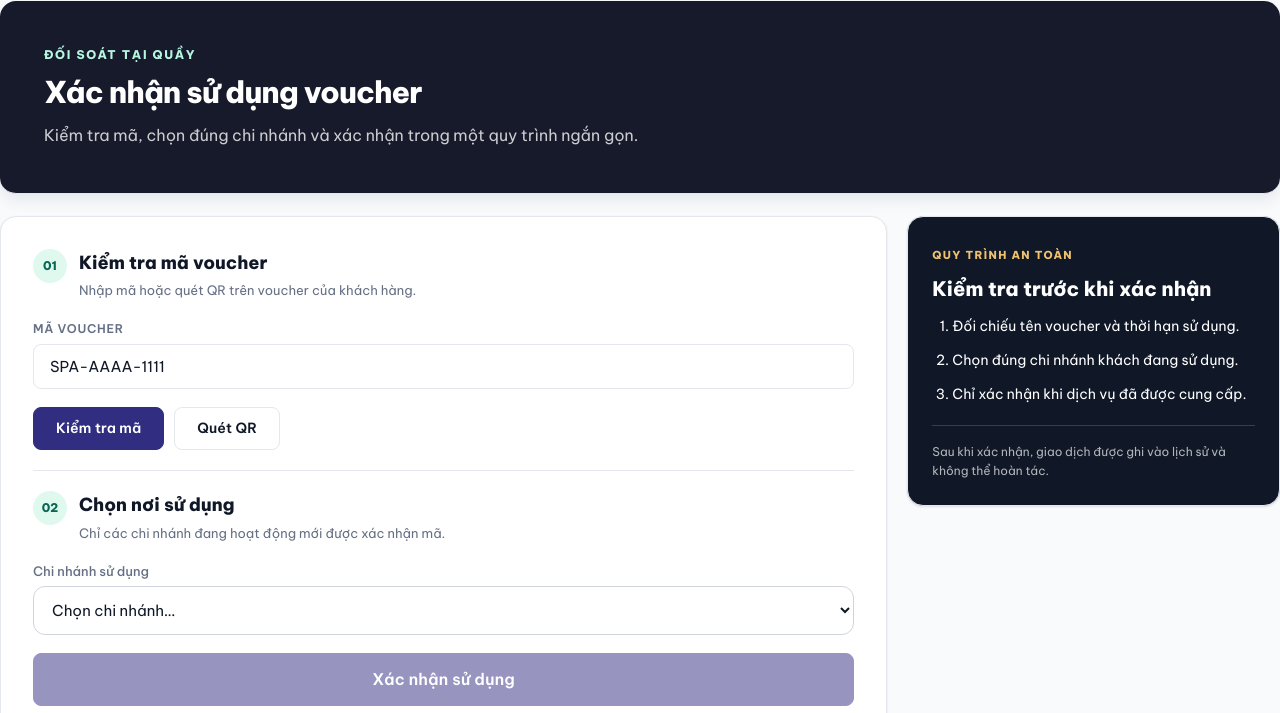
Test: RedeemCodePage › redeems a code at the selected branch and shows the result (Req 19.1)
Expected: the dropdown with test id "branch-select" is shown, [33,586,854,635]
Click the button with test id "validate-code-btn" at (99, 428), box [33,407,164,450]
(page scrolled)
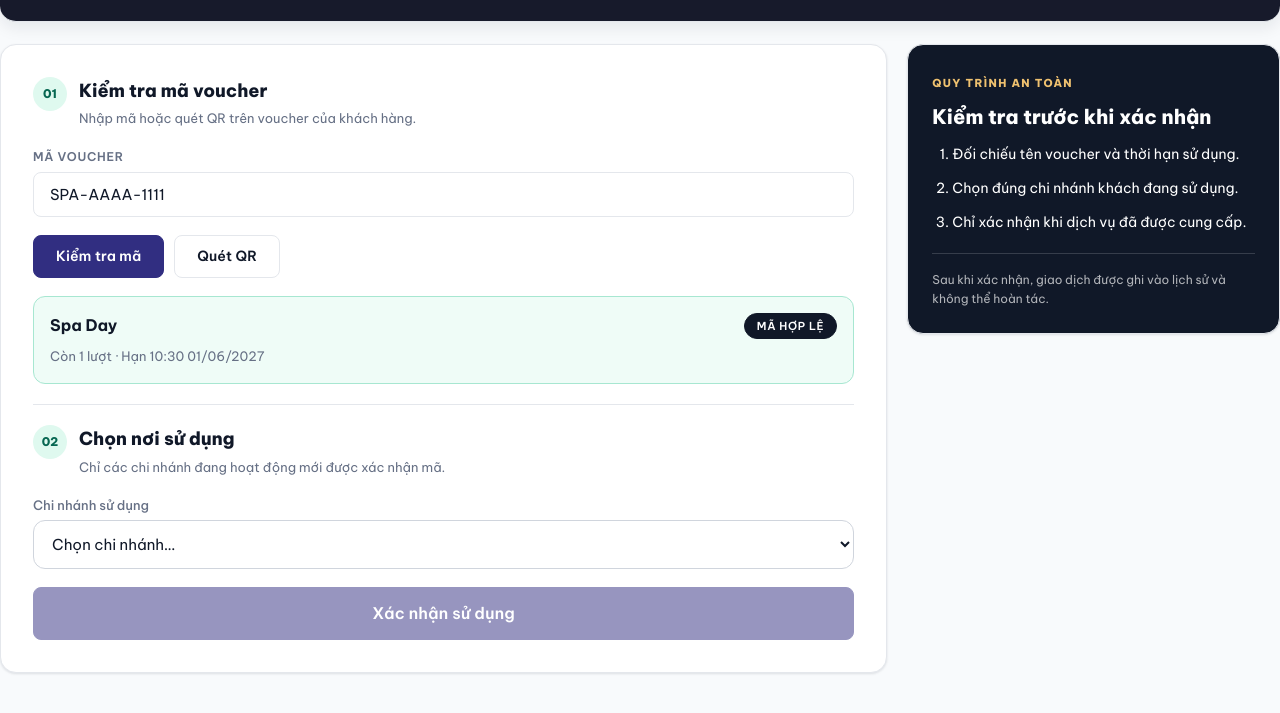
Result: the text "Mã hợp lệ" is shown at [744,313,837,339]
Select "Downtown Spa — Hà Nội" in the dropdown with test id "branch-select" at (444, 544), box [33,520,854,569]
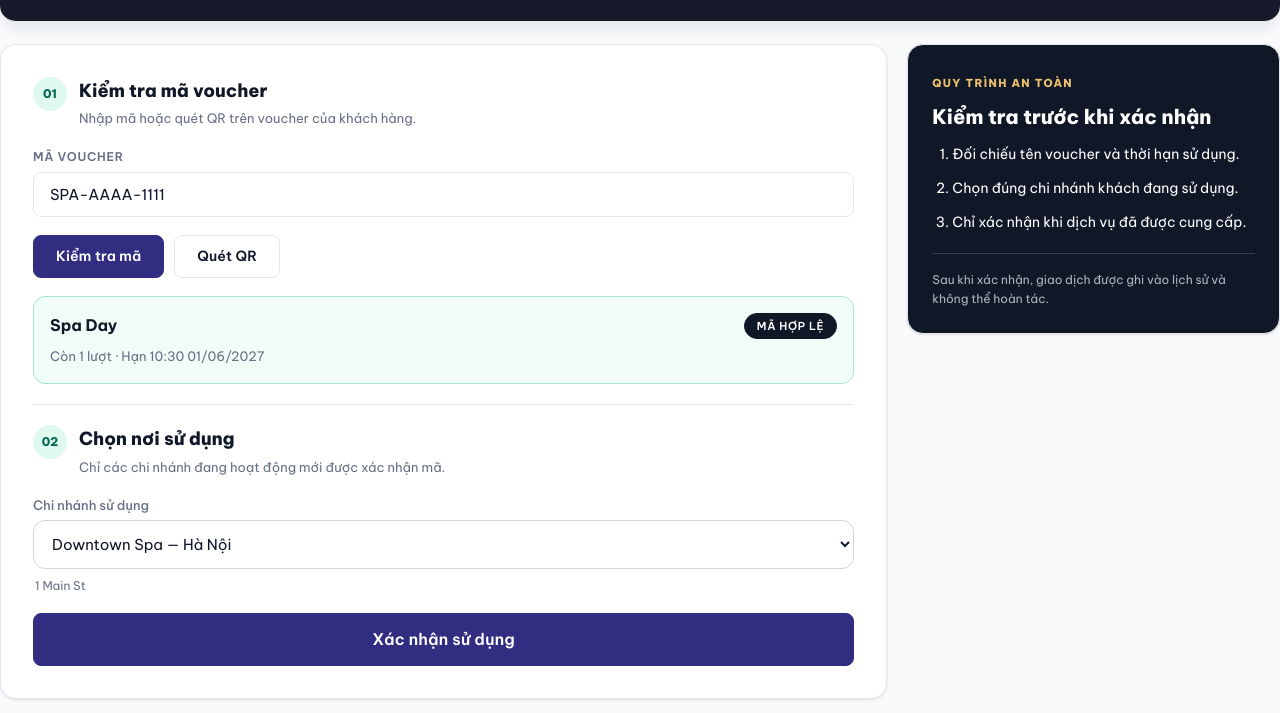
Click the button "Xác nhận sử dụng" at (444, 640), box [33,613,854,666]
(page scrolled)
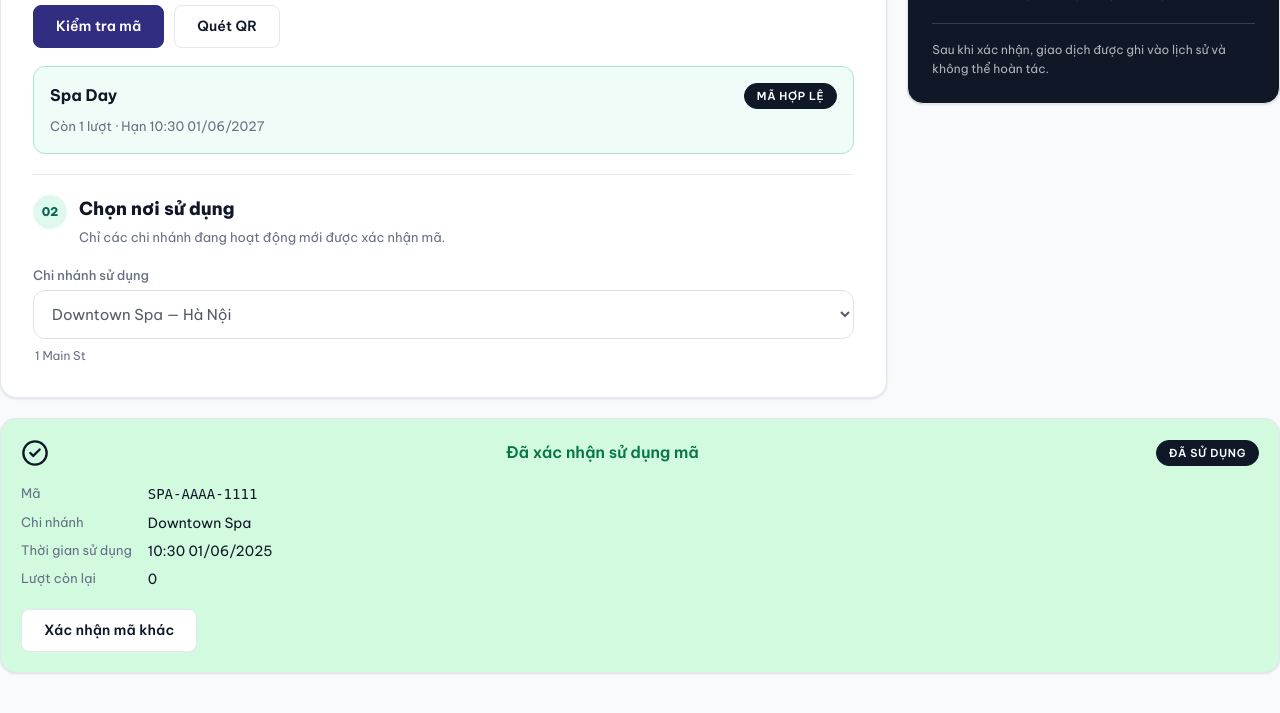
Result: the element with test id "redeem-success" shows "Đã xác nhận sử dụng mã" at [506,442,699,462]
Result: the element with test id "redeem-success" shows "Downtown Spa" at [148,514,251,532]
